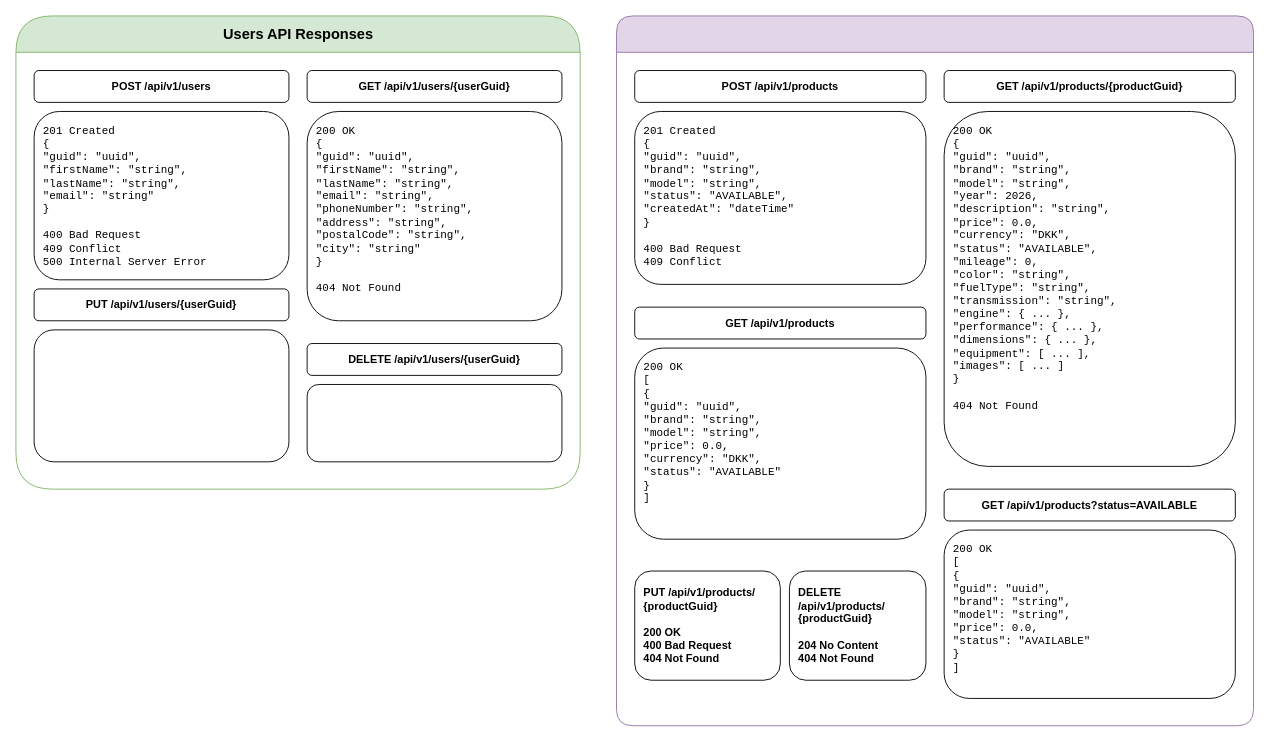
Image size: 1269x742. Some labels were removed from this diagram. The shapes that lost their labels are listed below. From the top down, each one's box as (x1, y1, x2, y2) in pixels, then its label:
(616, 15, 1254, 726): Products API Responses
(33, 329, 289, 462): 200 OK { "guid": "uuid", "updatedAt": "dateTime" } 400 Bad Request 404 Not Found
(306, 384, 562, 462): 204 No Content 404 Not Found
